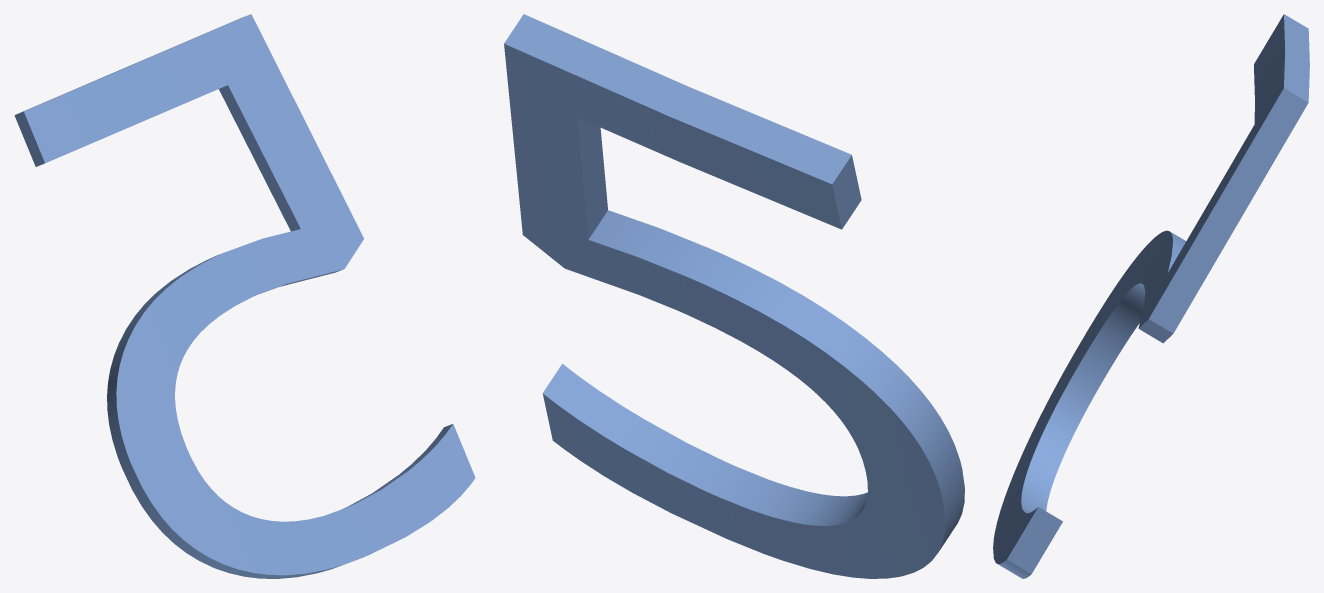
File: Number_5.gltf
3 views of the same model, side by side, from view 1: azimuth 30°, elevation 25°; view 2: azimuth 150°, elevation 25°; view 3: azimuth 270°, elevation 25° (orthographic). The views are drawn at different scales.
Visible parts, largest first — view 1: Sub_8_Cell_1_1_Number_5; view 2: Sub_8_Cell_1_1_Number_5; view 3: Sub_8_Cell_1_1_Number_5.
Part boxes in pixels (x1,y1,x2,y2): Sub_8_Cell_1_1_Number_5: (14, 14, 475, 578); Sub_8_Cell_1_1_Number_5: (504, 14, 964, 578); Sub_8_Cell_1_1_Number_5: (993, 14, 1309, 578).
Bounding box in the file's own units: 0.0176 × 0.0236 × 0.0139.
